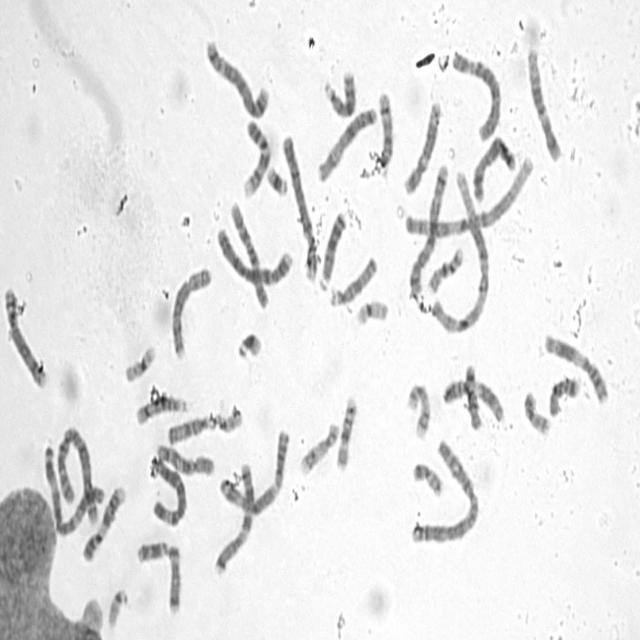A1: (400, 150, 534, 241), (426, 164, 492, 339)
A2: (406, 434, 479, 546), (53, 419, 101, 529)
A3: (214, 420, 292, 517), (40, 438, 104, 536)
B4: (278, 127, 319, 283), (213, 219, 294, 288)
B5: (405, 157, 450, 297), (202, 31, 271, 120)
C10: (226, 194, 272, 310), (152, 436, 216, 478)
C11: (541, 325, 611, 406), (438, 370, 506, 424)
C12: (524, 40, 564, 164), (400, 92, 442, 196)
C6: (448, 42, 503, 142), (147, 450, 189, 528)
C7: (210, 455, 256, 577), (137, 540, 184, 618)
C8: (0, 280, 49, 391), (166, 258, 214, 360)
C9: (78, 478, 127, 563), (239, 112, 272, 199)
D13: (316, 203, 348, 289), (320, 62, 358, 119)
D14: (132, 387, 189, 427), (373, 84, 395, 173)
D15: (326, 248, 378, 308), (164, 407, 213, 445)
E16: (424, 239, 465, 295), (332, 388, 359, 472)
E17: (296, 415, 340, 477), (403, 376, 432, 442)
E18: (546, 368, 582, 418), (461, 357, 484, 432)
F19: (120, 338, 158, 383), (352, 292, 390, 327)
F20: (519, 382, 551, 438), (409, 455, 444, 499)
G21: (232, 322, 264, 361), (263, 157, 290, 198)
G22: (104, 581, 130, 629), (211, 400, 243, 435)
X: (313, 99, 379, 184), (469, 129, 516, 204)
